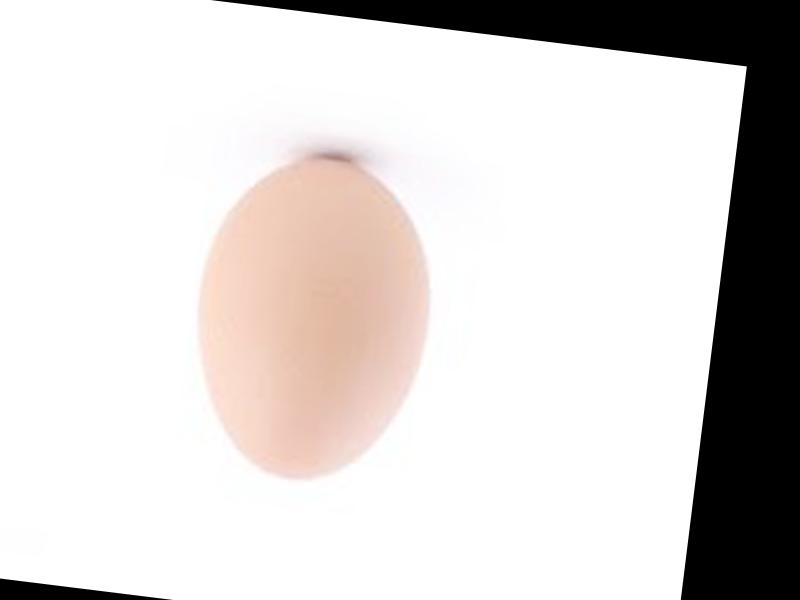Eggs: (179, 145, 449, 493)
